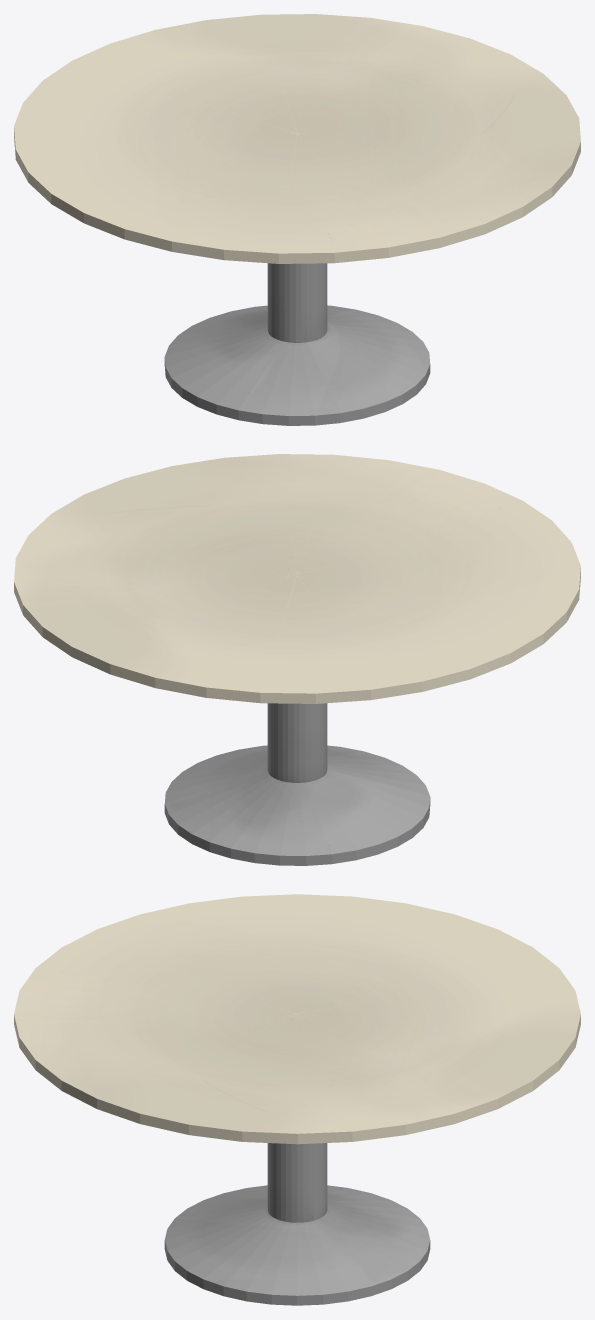
The model's file is DiningTable_GEO.fbx.
The picture shows the model from 3 angles, top to bottom: view 1: azimuth 30°, elevation 25°; view 2: azimuth 150°, elevation 25°; view 3: azimuth 270°, elevation 25°; orthographic projection.
Parts seen in each view (by area): view 1: Circle; view 2: Circle; view 3: Circle.
Boxes of the visible parts, x1=… form: Circle: x1=14, y1=14, x2=580, y2=425; Circle: x1=14, y1=454, x2=580, y2=865; Circle: x1=14, y1=894, x2=580, y2=1305.
Size of the model in its own units: 272 by 125 by 272.
1 material, 1 textured.
